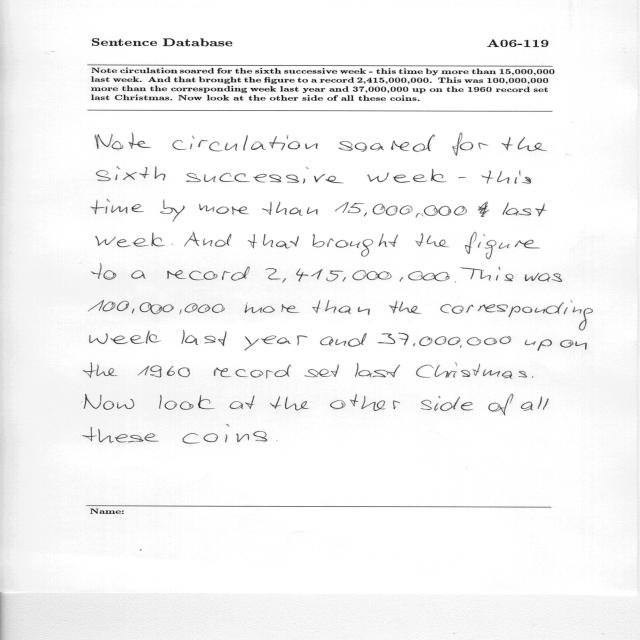word: (440, 300, 593, 330), (266, 268, 450, 283), (186, 167, 344, 184), (173, 135, 318, 151), (378, 332, 511, 348), (312, 233, 398, 257), (465, 232, 540, 259), (335, 202, 467, 217), (88, 300, 225, 314), (416, 363, 527, 379), (338, 135, 435, 152), (183, 425, 249, 444), (83, 427, 159, 443), (330, 394, 400, 411), (167, 267, 250, 281), (367, 169, 447, 183), (96, 233, 165, 248), (89, 330, 161, 344), (214, 365, 291, 378), (97, 167, 166, 181), (95, 133, 151, 150), (245, 336, 307, 351), (312, 300, 370, 315), (452, 133, 489, 156), (159, 395, 214, 410), (84, 394, 134, 410), (91, 199, 144, 214), (421, 396, 474, 411), (262, 202, 318, 216), (460, 267, 514, 281), (182, 330, 227, 346), (248, 234, 299, 248), (184, 232, 231, 247), (482, 170, 532, 184), (355, 363, 400, 378), (320, 333, 366, 347), (502, 137, 547, 151), (138, 366, 190, 378), (503, 202, 547, 216), (270, 396, 309, 411), (160, 199, 185, 222), (83, 362, 118, 378), (199, 204, 249, 215), (245, 303, 300, 313), (488, 394, 514, 415), (415, 233, 449, 247), (304, 365, 339, 377), (521, 396, 549, 411), (390, 301, 422, 314), (92, 264, 117, 280), (229, 396, 255, 409), (525, 273, 562, 282), (525, 339, 552, 351), (560, 340, 587, 350), (478, 201, 489, 217), (253, 431, 267, 441), (131, 270, 146, 279), (459, 177, 466, 178), (455, 281, 456, 283), (532, 376, 533, 378), (172, 244, 173, 245)
